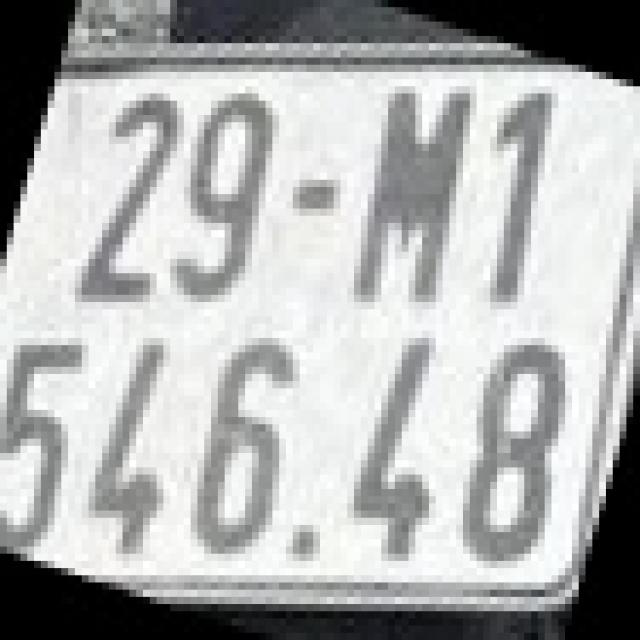1: (484, 86, 558, 310)
2: (75, 86, 177, 302)
4: (347, 331, 436, 561), (89, 331, 170, 554)
5: (0, 338, 82, 546)
6: (190, 331, 300, 554)
8: (456, 331, 572, 568)
9: (177, 86, 279, 302)
M: (354, 72, 477, 302)
